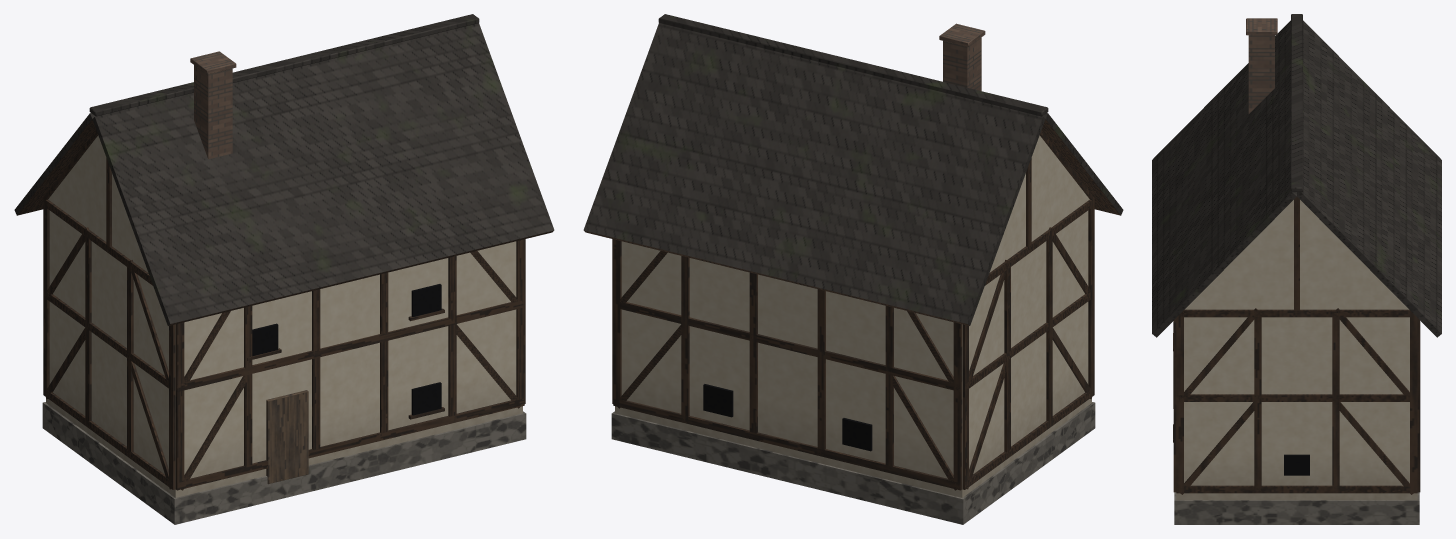
The model's file is SM_House_B.glb.
3 views of the same model, side by side, from view 1: azimuth 30°, elevation 25°; view 2: azimuth 150°, elevation 25°; view 3: azimuth 270°, elevation 25° (orthographic). The views are drawn at different scales.
Visible parts, largest first — view 1: SM_House_B; view 2: SM_House_B; view 3: SM_House_B.
Boxes of the visible parts, x1,y1,x2,y2 form: SM_House_B: [14, 14, 554, 524]; SM_House_B: [583, 14, 1123, 524]; SM_House_B: [1152, 14, 1441, 524].
Size of the model in its own units: 9.4 by 9.55 by 6.61.
Materials: 1 (1 with a texture image).
